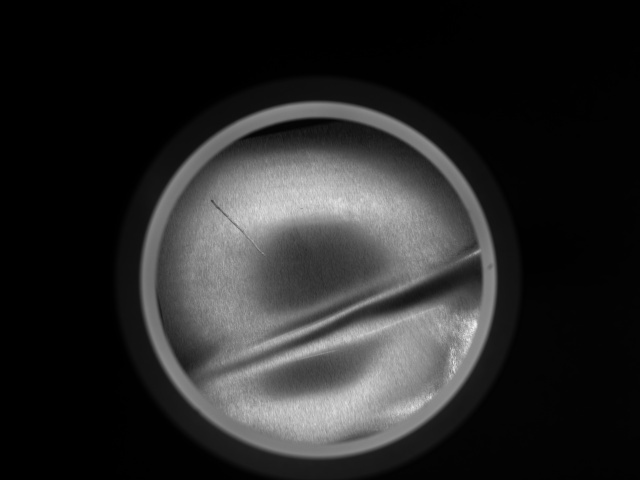ca_shang: (207, 194, 269, 261)
zhe_zhou: (199, 146, 441, 409)
